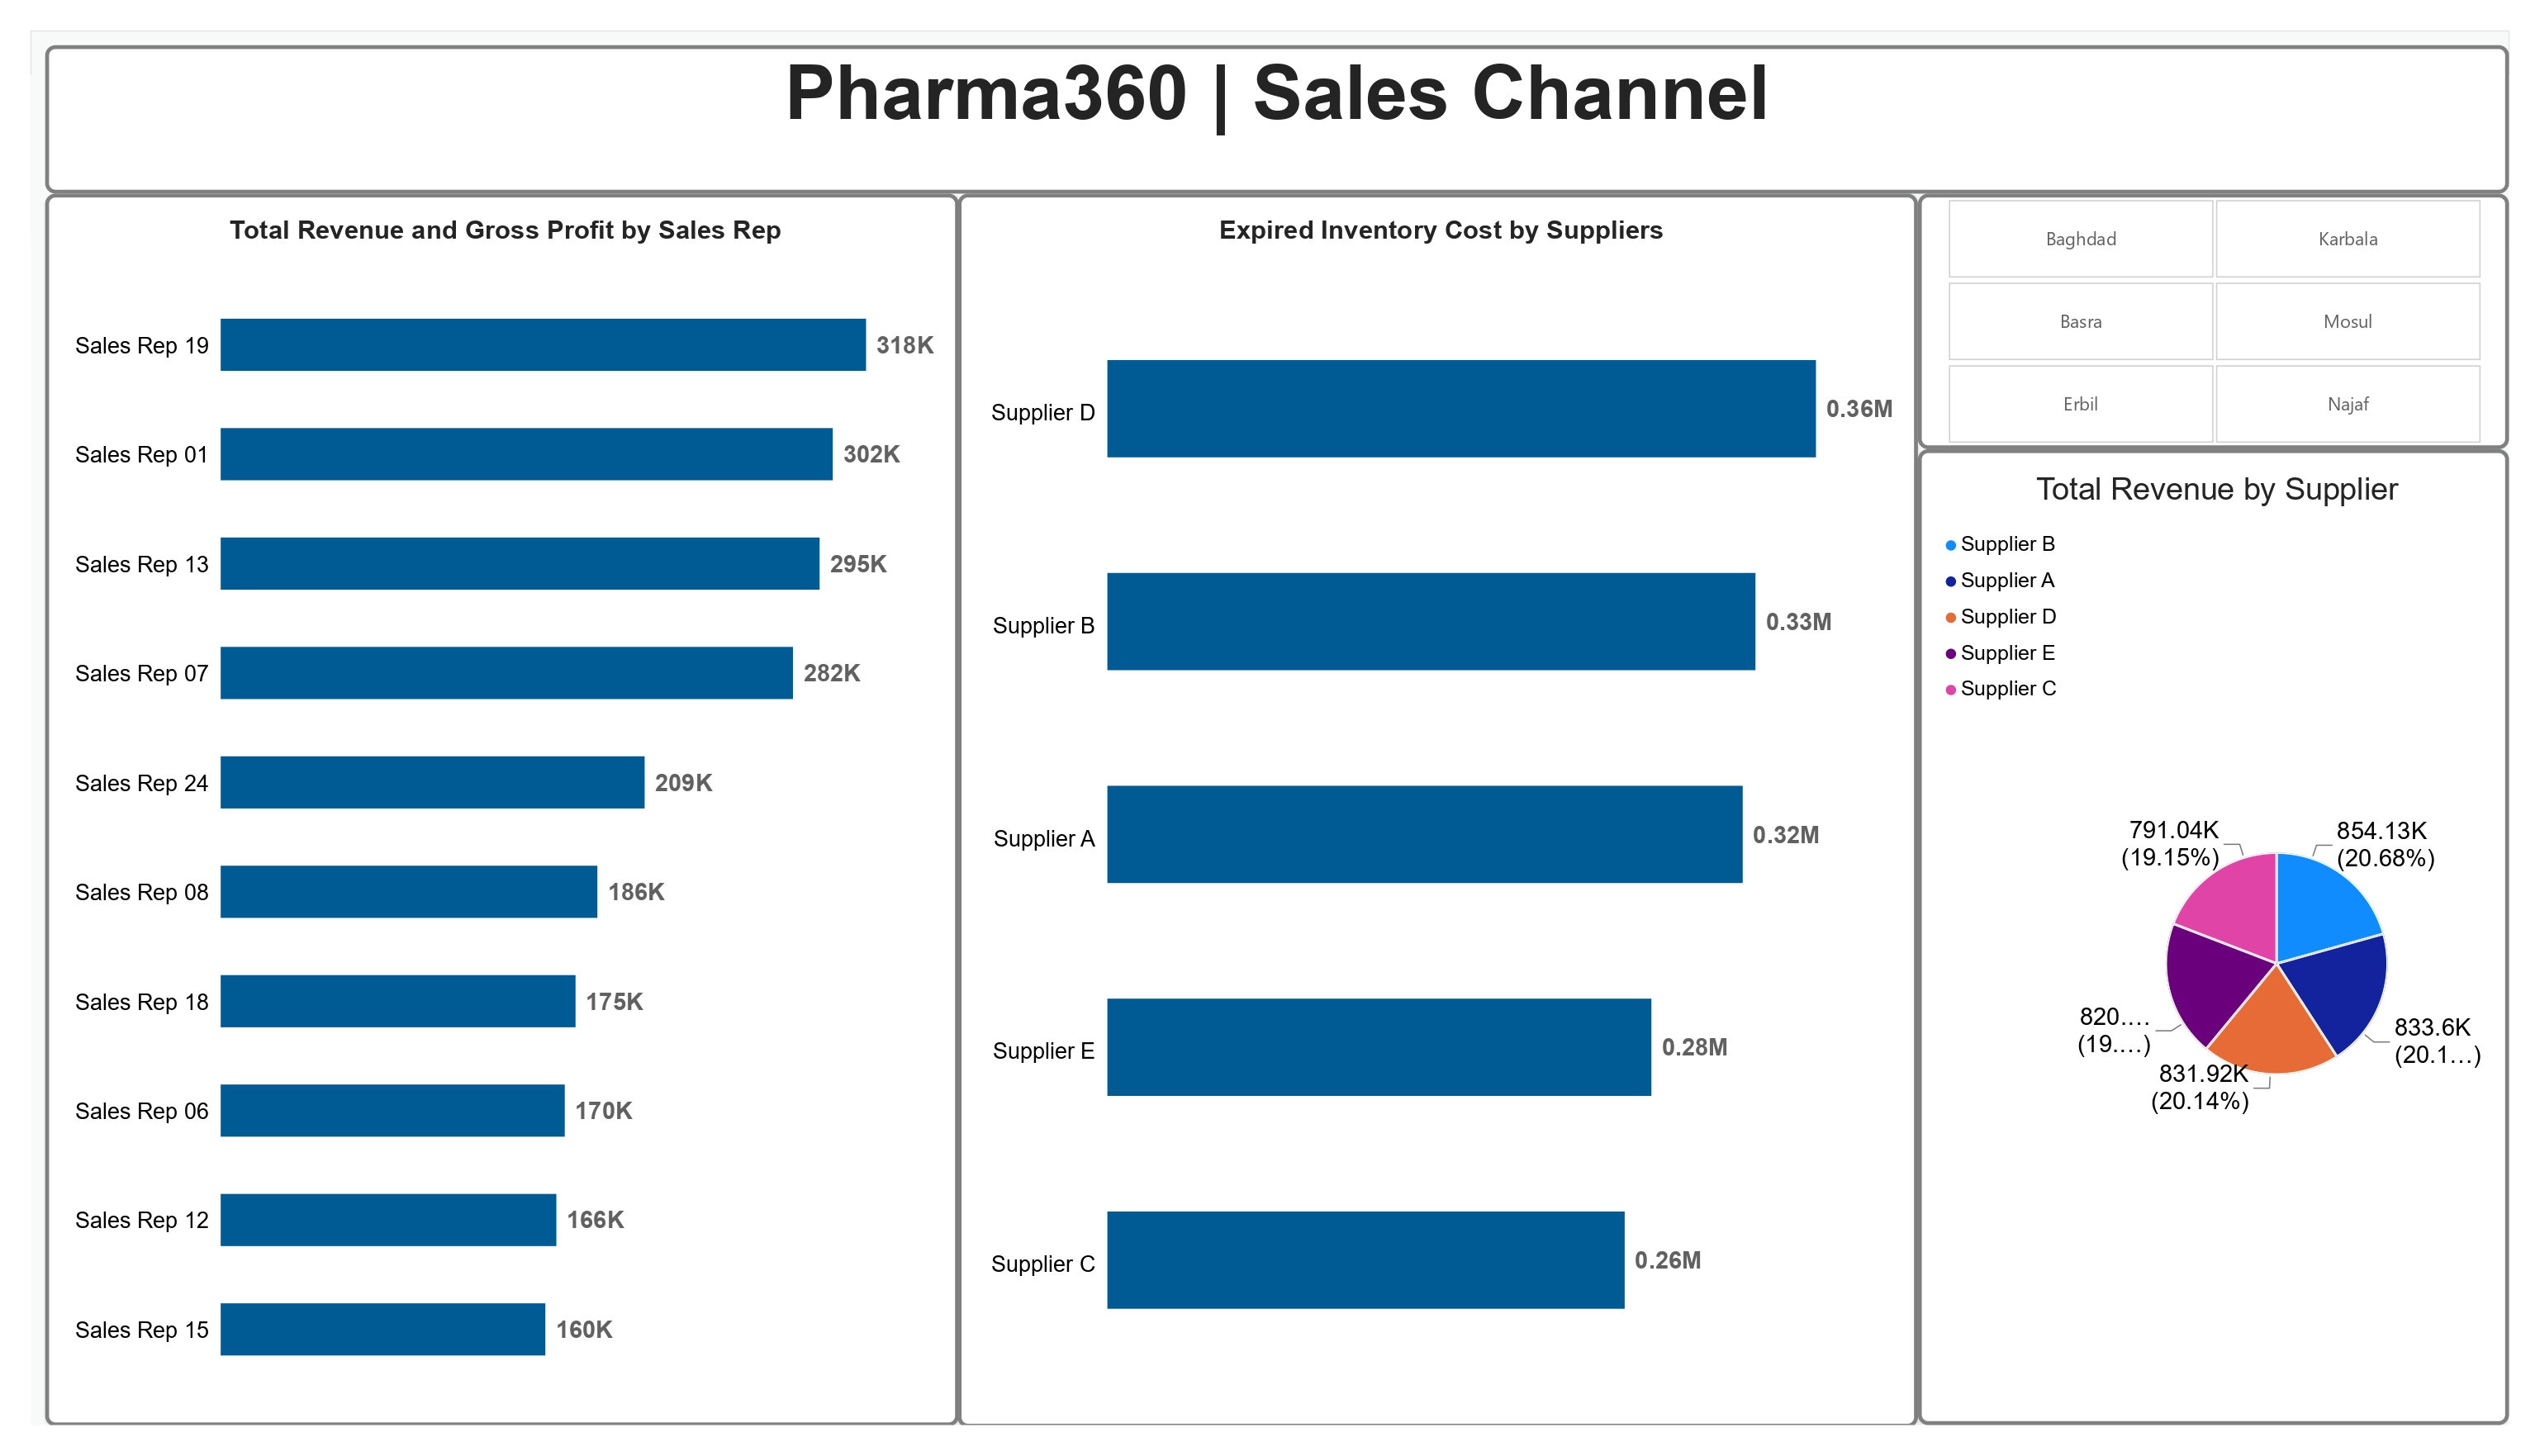

What the dashboard file says about the page in this screenshot:
{"tool":"powerbi","page":{"name":"Sales Channel","canvas":[1920,1080],"ordinal":1},"visuals":[{"type":"barChart","title":"Total Revenue and Gross Profit by Sales Rep","fields":{"Category":["pharma360 sales_rep.Sales_Rep_Name"],"Y":["pharma360 fact_sales.Total_Revenue"]},"box":[10.7,126.3,708.5,954.6],"z":0},{"type":"clusteredBarChart","title":"Expired Inventory Cost by Suppliers","fields":{"Category":["pharma360 supplier.Supplier"],"Y":["pharma360 inventory.Expired_Inventory_Cost"]},"box":[718.3,125.8,743.4,955.8],"z":1000},{"type":"textbox","box":[10.7,10.7,1909.3,115.6],"z":2000},{"type":"slicer","fields":{"Values":["pharma360 fact_sales.Warehouse"]},"box":[1461.7,125.8,458.3,198.4],"z":3000},{"type":"pieChart","title":"Total Revenue by Supplier ","fields":{"Category":["pharma360 supplier.Supplier"],"Y":["pharma360 fact_sales.Total Revenue"]},"box":[1462,324,458,756],"z":4000}]}

Visuals, with their boxes on the page's 1920x1080 design canvas (x1, y1, x2, y2). These are canvas units, not pixel positions in the 2540x1456 screenshot, which may show the page scaled, cropped or inside an application window:
"Total Revenue and Gross Profit by Sales Rep" barChart: x1=11, y1=126, x2=719, y2=1081
"Expired Inventory Cost by Suppliers" clusteredBarChart: x1=718, y1=126, x2=1462, y2=1082
textbox: x1=11, y1=11, x2=1920, y2=126
slicer - pharma360 fact_sales.Warehouse: x1=1462, y1=126, x2=1920, y2=324
"Total Revenue by Supplier " pieChart: x1=1462, y1=324, x2=1920, y2=1080
